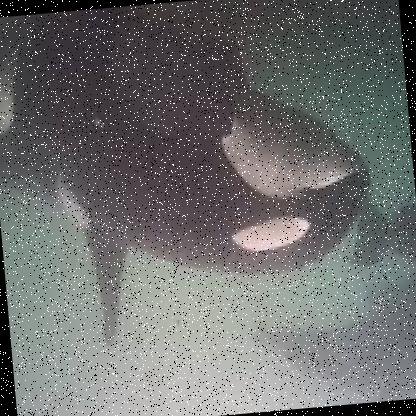killer_whale: (0, 0, 383, 315)
